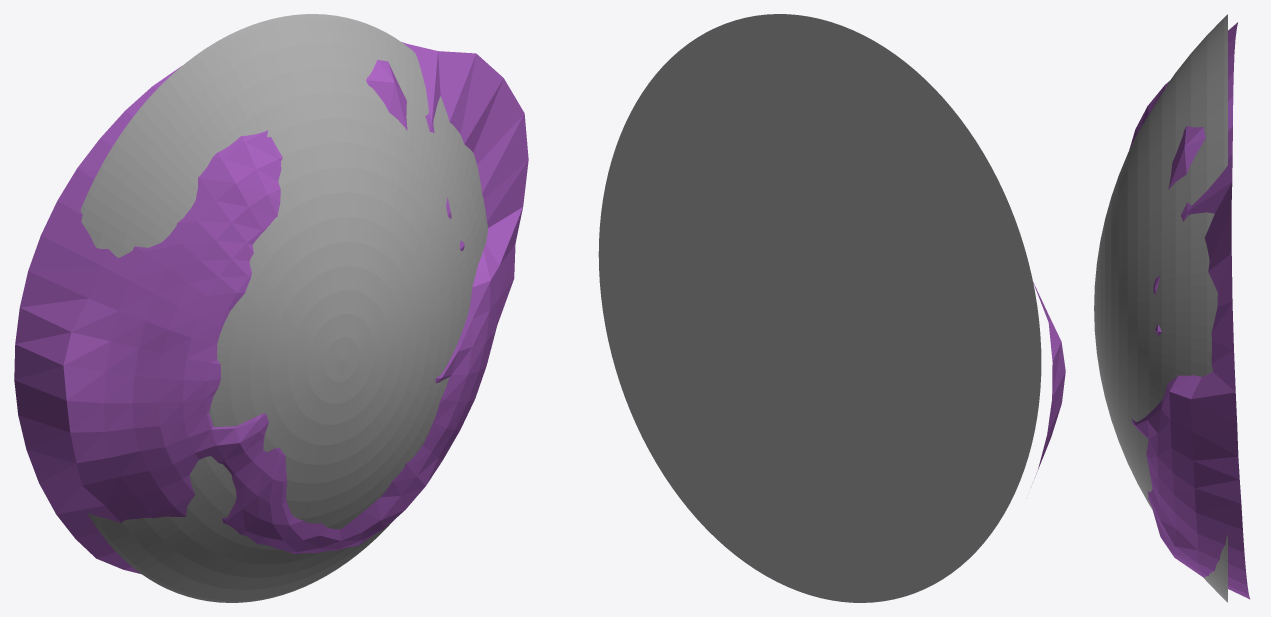
Rendered from G04_A2_ALIGNED_GT.glb.
3 renders of one model, left to right at view 1: azimuth 30°, elevation 25°; view 2: azimuth 150°, elevation 25°; view 3: azimuth 270°, elevation 25°, orthographic. The views are drawn at different scales.
Parts seen in each view (by area): view 1: Independent_GT, A2; view 2: Independent_GT, A2; view 3: Independent_GT, A2.
Boxes of the visible parts, x1=… form: Independent_GT: x1=80, y1=14, x2=487, y2=602; A2: x1=14, y1=42, x2=528, y2=574; Independent_GT: x1=598, y1=14, x2=1041, y2=602; A2: x1=1033, y1=282, x2=1065, y2=478; Independent_GT: x1=1094, y1=14, x2=1227, y2=602; A2: x1=1129, y1=22, x2=1250, y2=599.
Bounding box in the file's own units: 0.00593 × 0.0065 × 0.00174.
